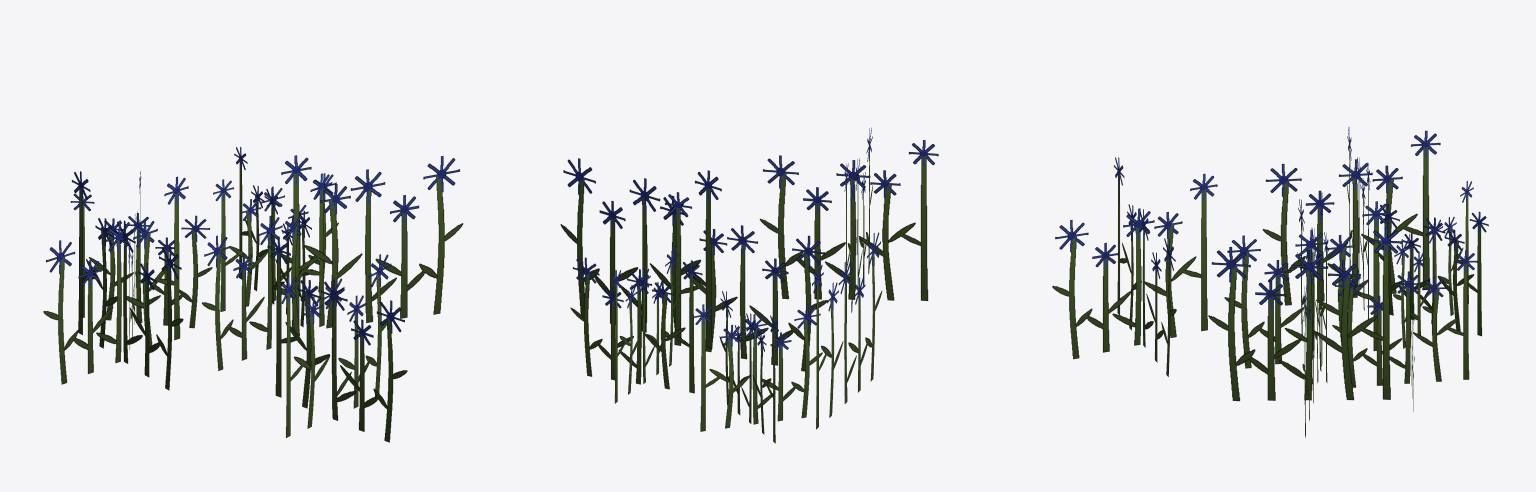
The model's file is prop_flora_cornflower.glb.
The picture shows the model from 3 angles, left to right: view 1: azimuth 30°, elevation 25°; view 2: azimuth 150°, elevation 25°; view 3: azimuth 270°, elevation 25°; orthographic projection. The views are drawn at different scales.
Visible parts, largest first — view 1: cornflower_3, cornflower_4, cornflower_0, cornflower_5, cornflower_1, cornflower_2; view 2: cornflower_4, cornflower_1, cornflower_2, cornflower_0, cornflower_5, cornflower_3; view 3: cornflower_0, cornflower_4, cornflower_3, cornflower_5, cornflower_2, cornflower_1.
Boxes of the visible parts, <box> form: cornflower_3: <box>43,171,188,390</box>; cornflower_4: <box>267,236,407,442</box>; cornflower_0: <box>281,155,463,329</box>; cornflower_5: <box>202,173,332,370</box>; cornflower_1: <box>213,147,338,327</box>; cornflower_2: <box>70,171,212,349</box>; cornflower_4: <box>759,127,938,323</box>; cornflower_1: <box>570,246,702,403</box>; cornflower_2: <box>693,291,822,443</box>; cornflower_0: <box>560,158,721,348</box>; cornflower_5: <box>665,192,827,371</box>; cornflower_3: <box>812,232,882,429</box>; cornflower_0: <box>1208,193,1401,437</box>; cornflower_4: <box>1052,157,1217,376</box>; cornflower_3: <box>1262,127,1440,319</box>; cornflower_5: <box>1224,199,1389,382</box>; cornflower_2: <box>1379,181,1488,348</box>; cornflower_1: <box>1332,233,1477,411</box>.
Size of the model in its own units: 0.7378 by 0.4094 by 0.7081.
1 material, 1 textured.
